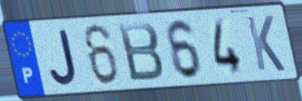4: (212, 17, 244, 76)
6: (164, 17, 205, 82), (82, 22, 121, 89)
B: (115, 20, 166, 84)
J: (48, 27, 80, 88)
K: (244, 14, 288, 74)
